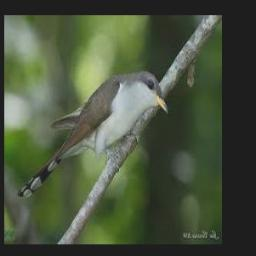Cuckoo: (18, 71, 168, 199)
